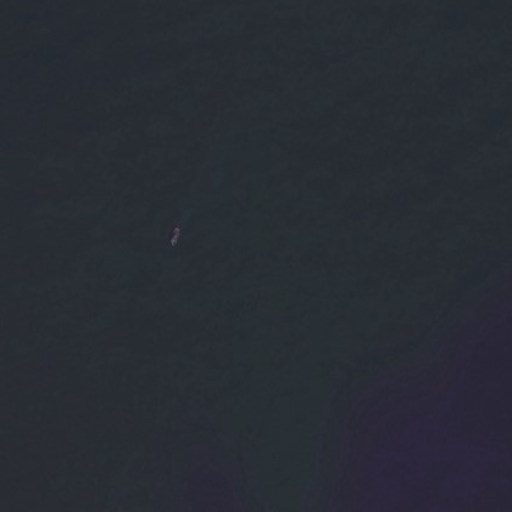ship: (167, 223, 182, 249)
